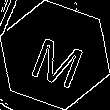M_N: (23, 24, 87, 86)
